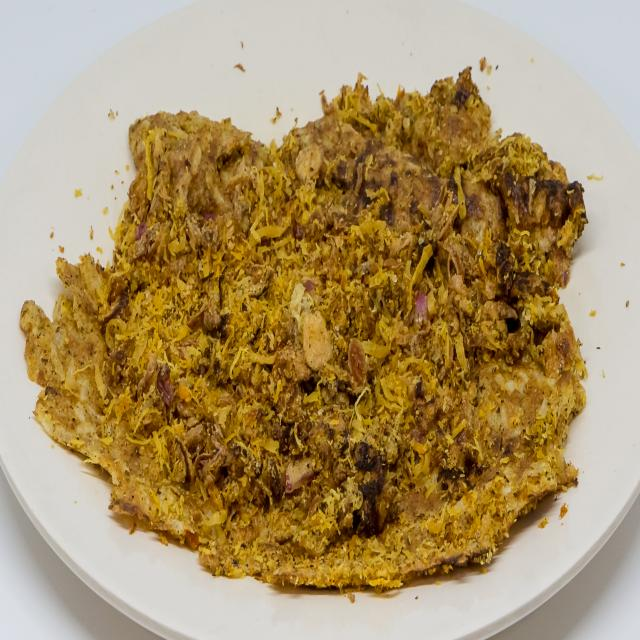Kerak-Telor: (13, 48, 597, 605)
